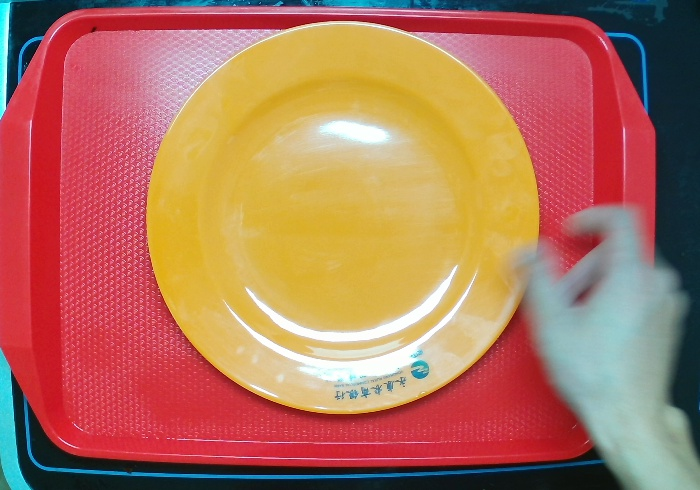YKMZ-Ju_Se_Mian_Pan: (139, 16, 546, 424)
